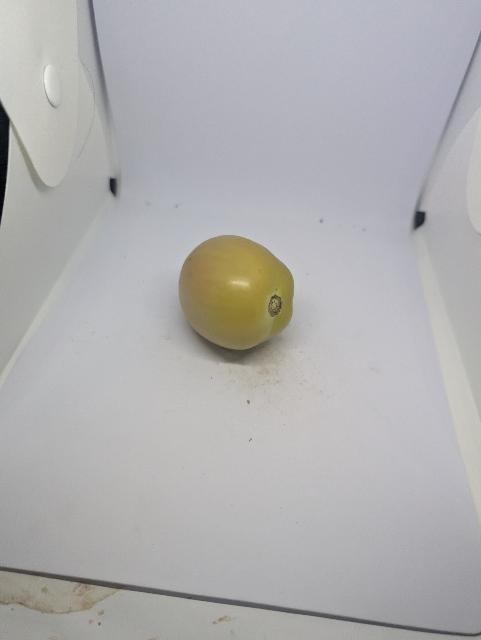breaker: (177, 233, 298, 352)
